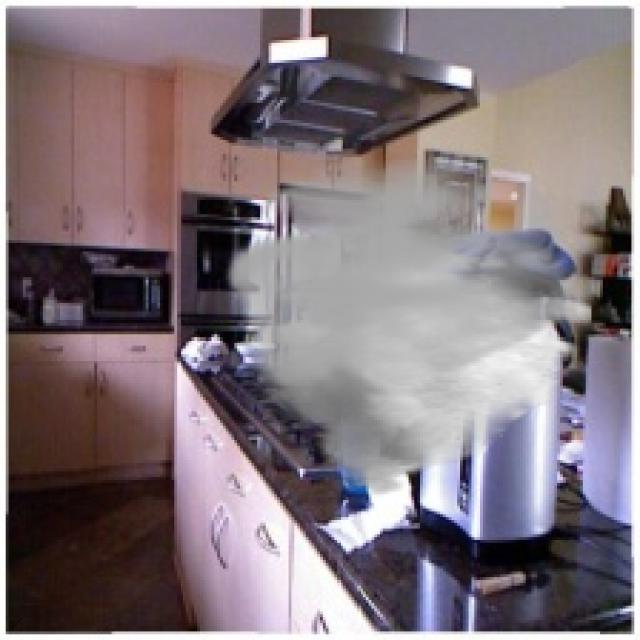Smoke: (219, 154, 592, 497)
